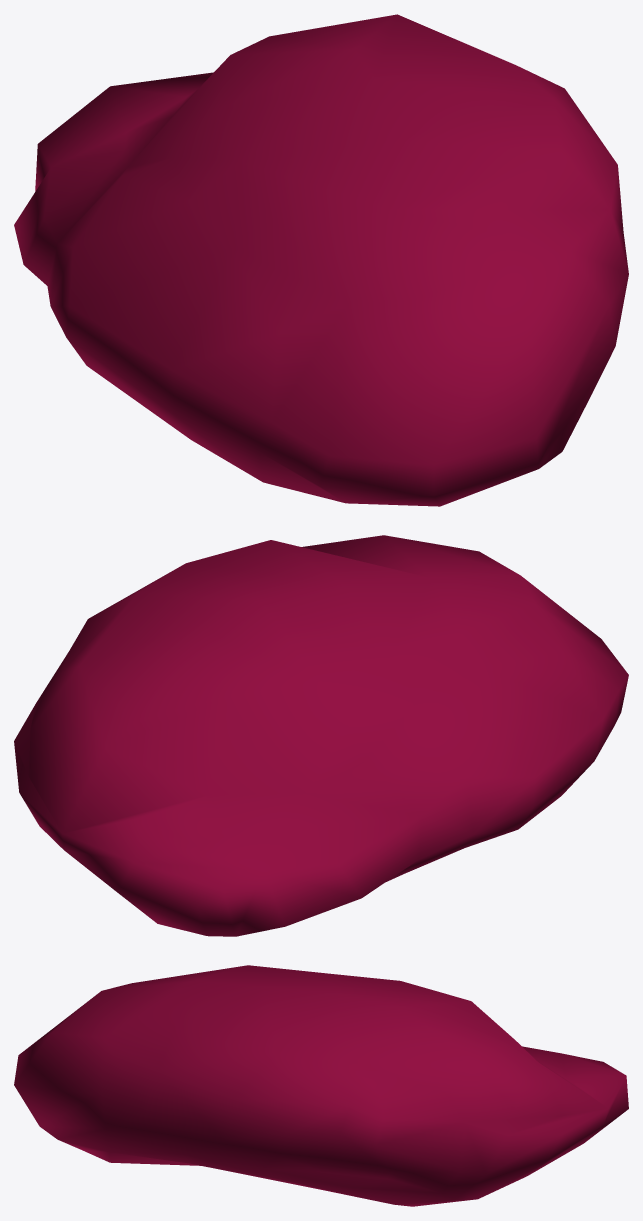
File: stone_05.FBX
3 renders of one model, top to bottom at view 1: azimuth 30°, elevation 25°; view 2: azimuth 150°, elevation 25°; view 3: azimuth 270°, elevation 25°, orthographic. The views are drawn at different scales.
Parts seen in each view (by area): view 1: stone_05; view 2: stone_05; view 3: stone_05.
Part boxes in pixels (x1,y1,x2,y2): stone_05: (14,14,628,506); stone_05: (14,535,628,936); stone_05: (14,965,628,1206).
Size of the model in its own units: 65.93 by 33.02 by 96.14.
